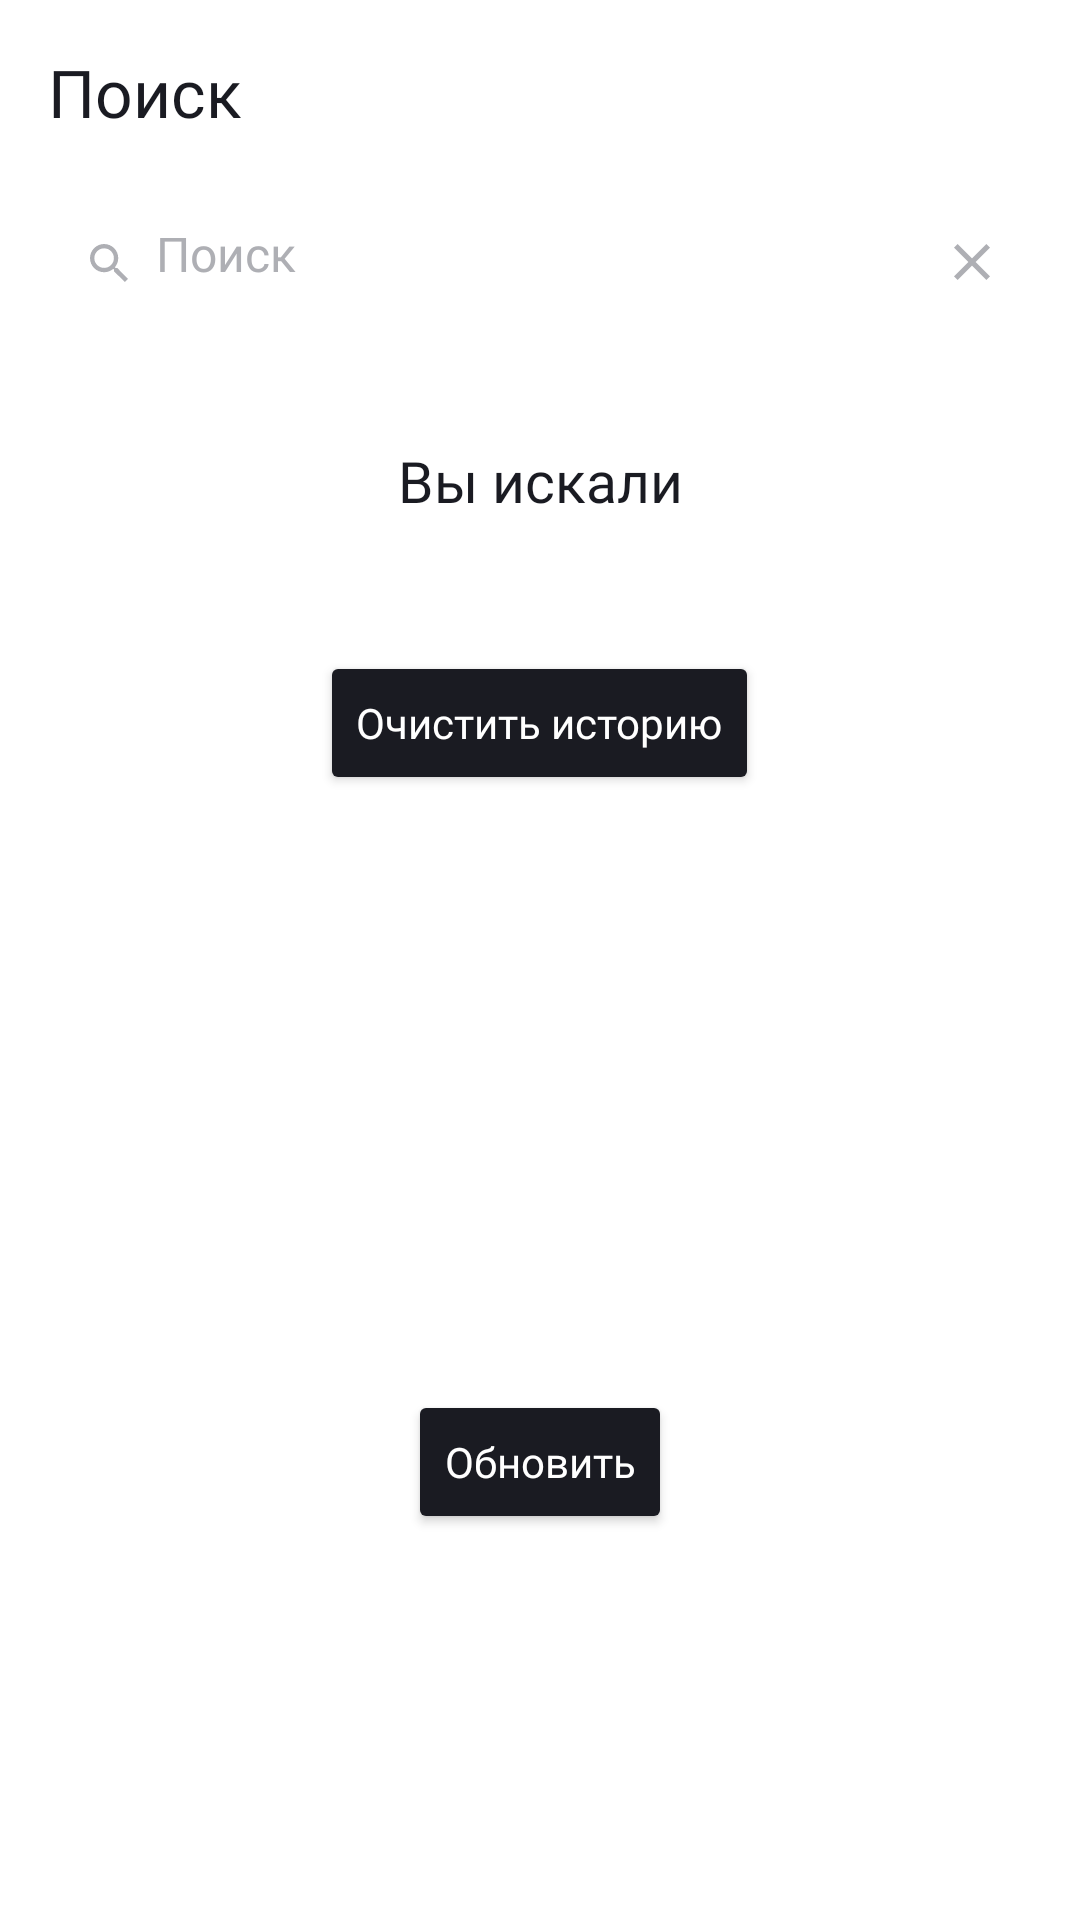

Screen size 1080x1920. Icon name, then its center in pixels as [x,y]:
delete search: [972,262]
